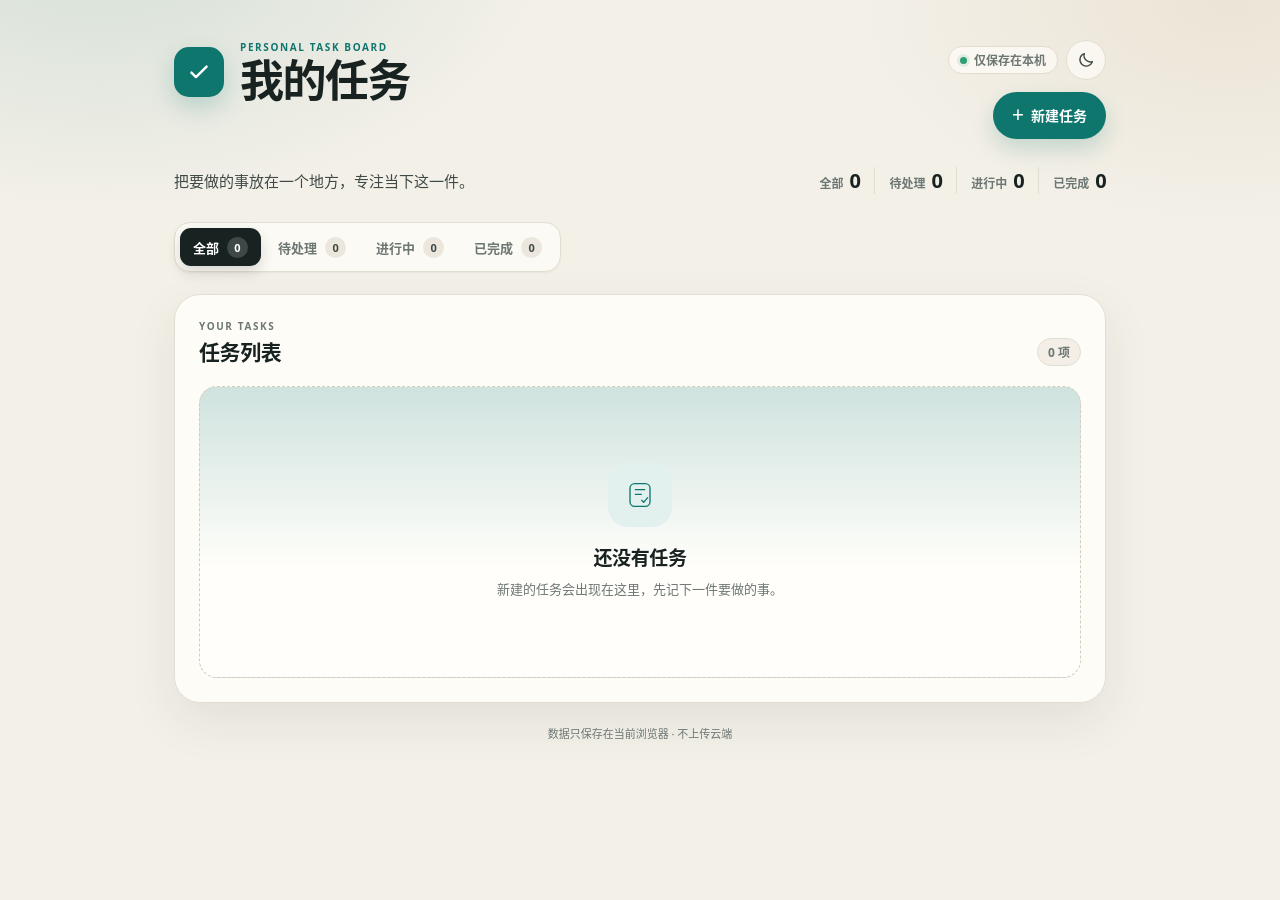
Test: create and edit › blocks an empty title and keeps the dialog open
Click the button "+ 新建任务" at (1050, 116), box [993, 92, 1106, 139]
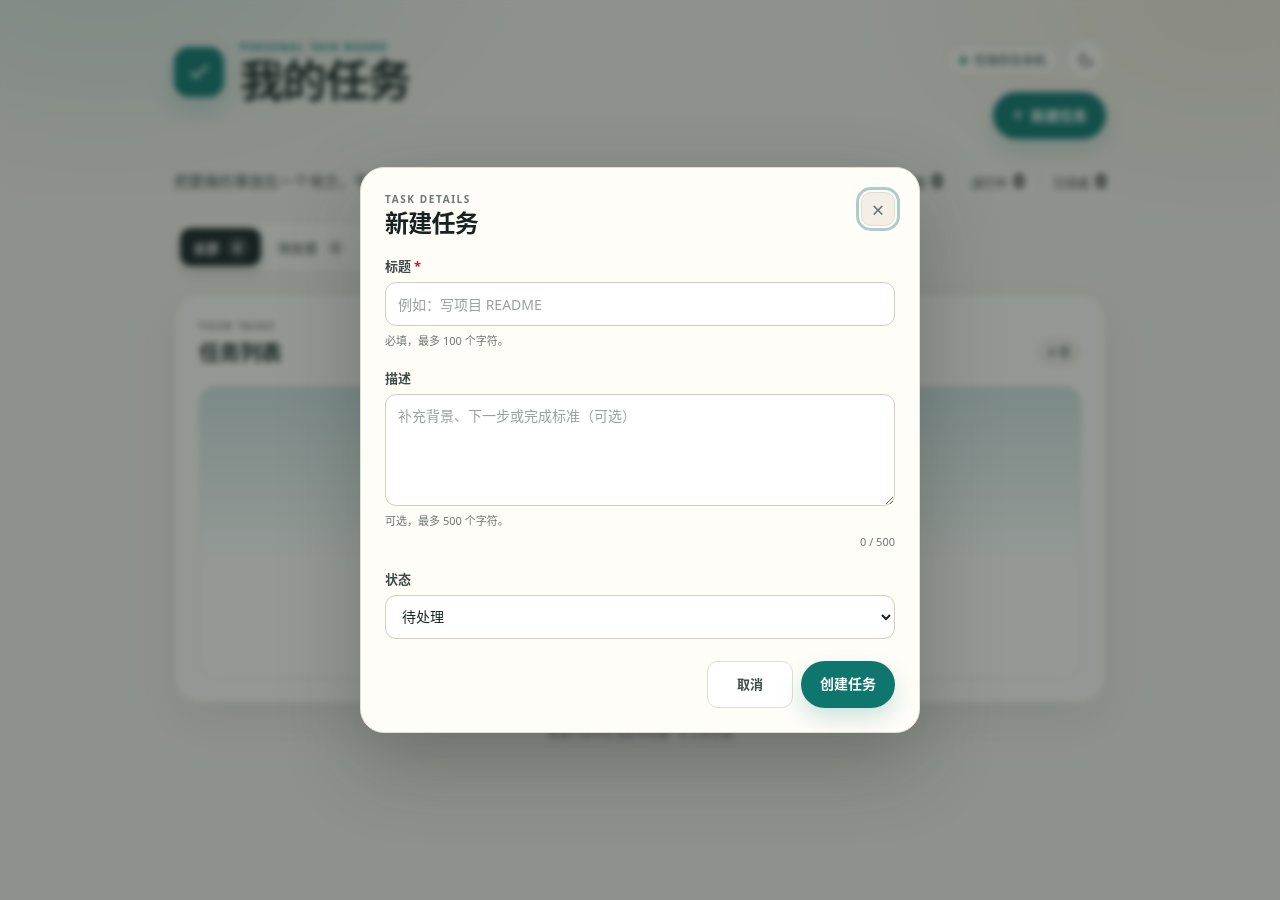
Click the button "创建任务" at (848, 684), box [801, 661, 895, 708]
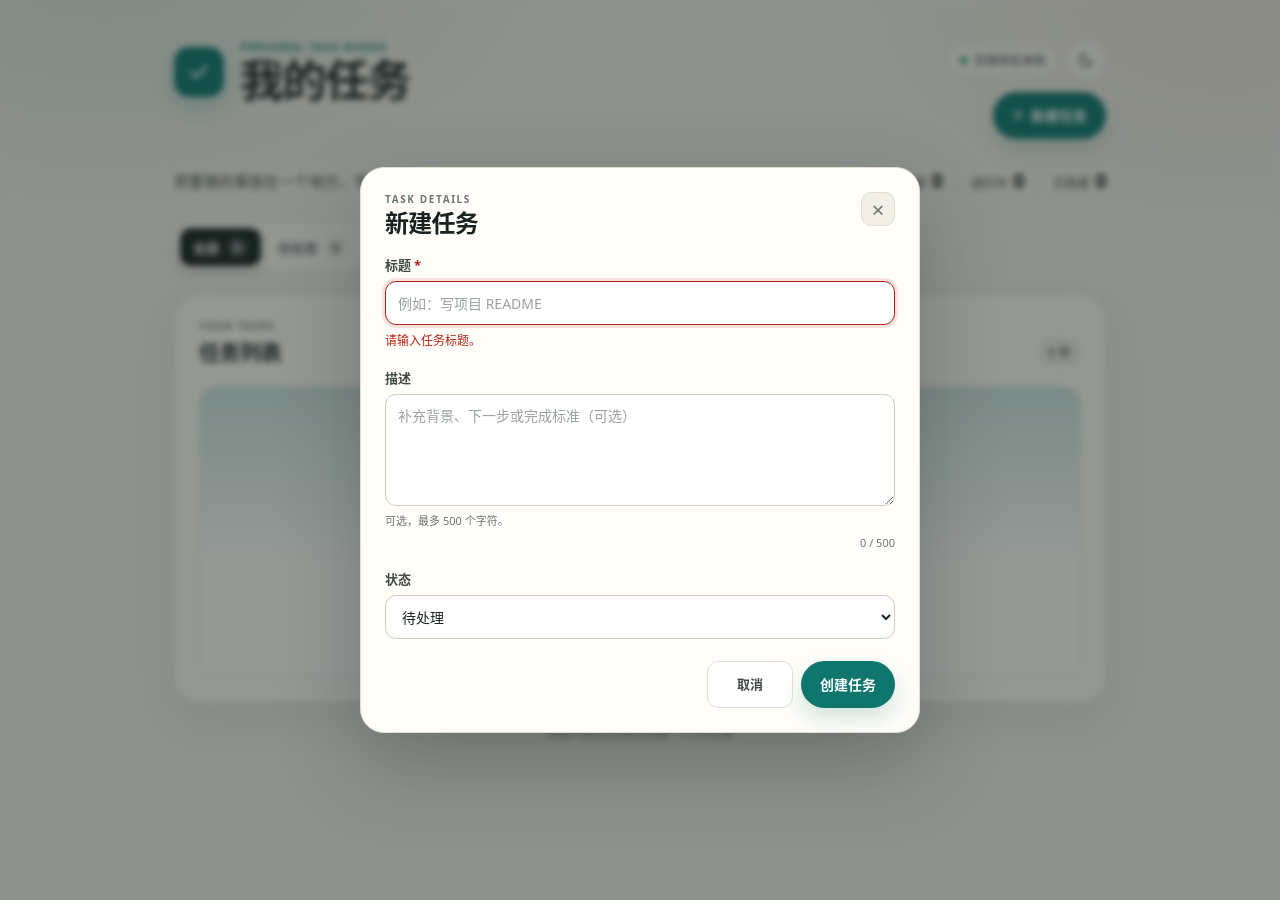
Expected: the heading "新建任务" is shown, [385, 209, 478, 237]
Expected: the text "请输入任务标题。" is shown, [385, 332, 481, 349]
